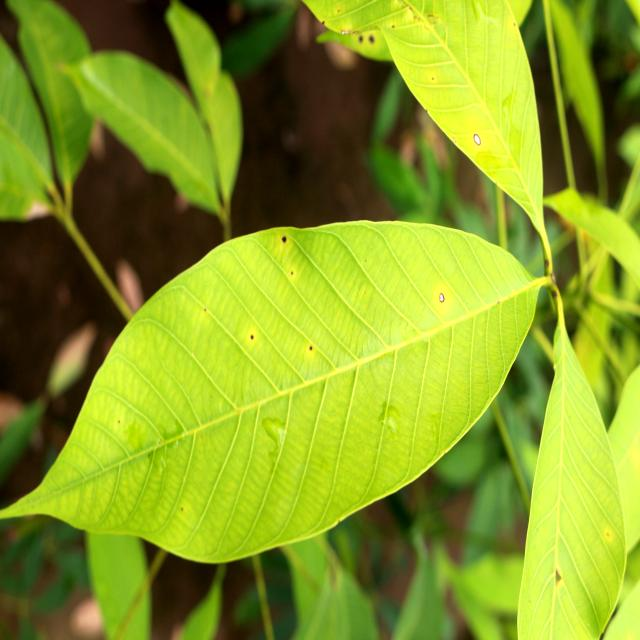Colletotrichum: (474, 133, 481, 146), (440, 293, 444, 302), (282, 236, 287, 243)
